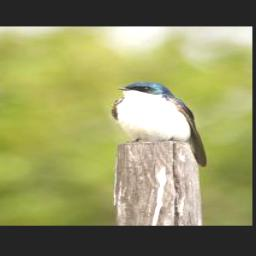Swallow: (108, 78, 208, 167)
